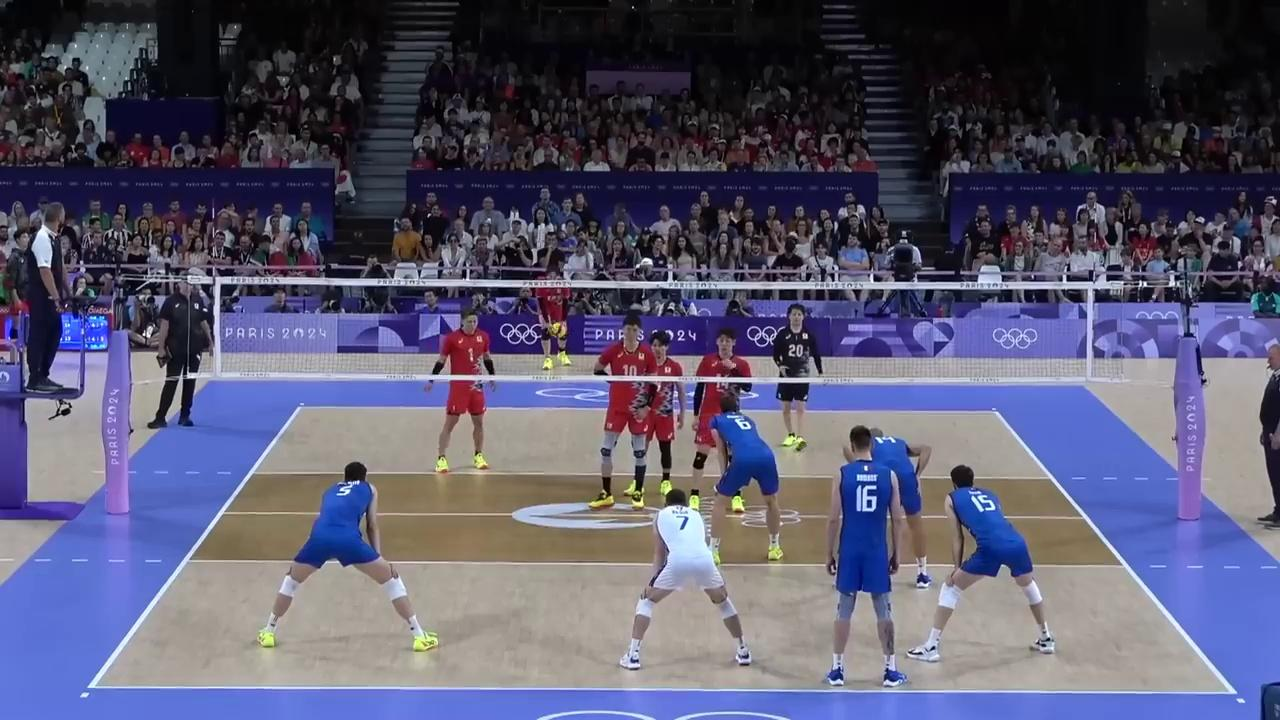ball: (552, 322, 567, 337)
